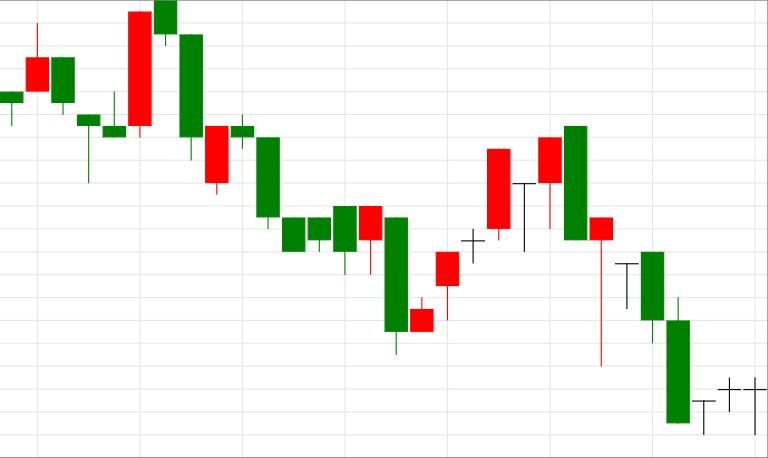bearish_engulfing_fall: (410, 127, 587, 332)
